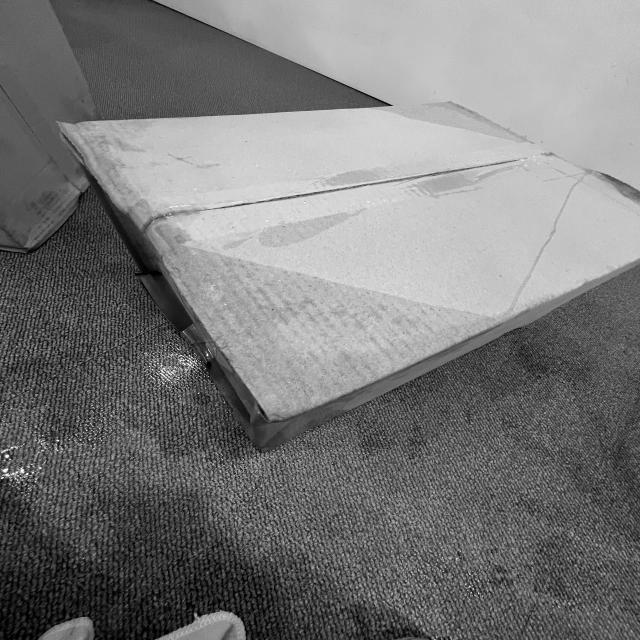wet: (156, 243, 493, 425)
